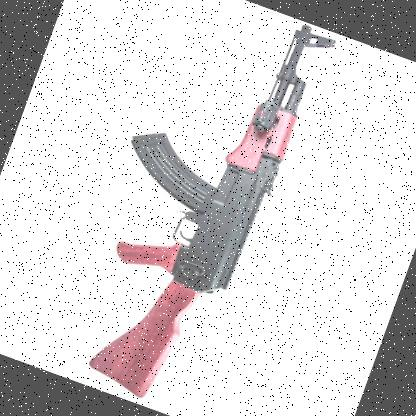rifle: (31, 0, 363, 416)
